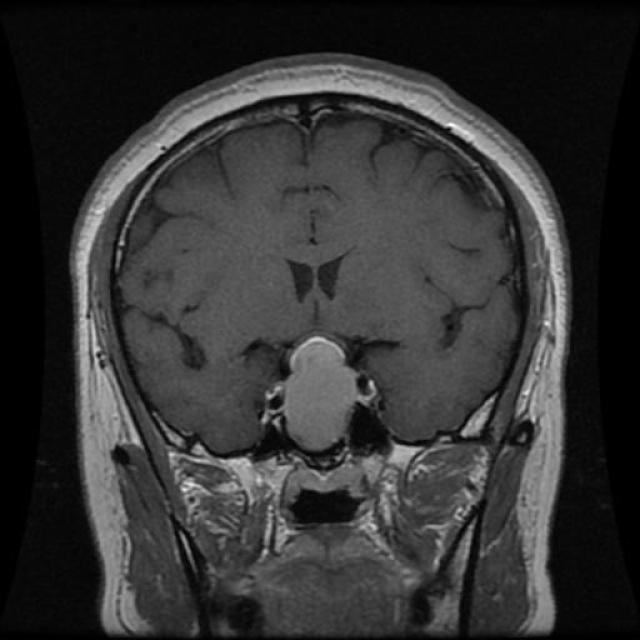pituitary: (255, 331, 382, 500)
